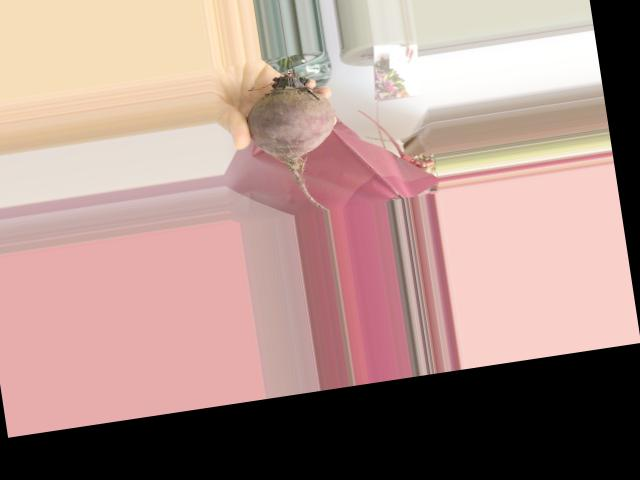beet: (238, 50, 349, 219)
